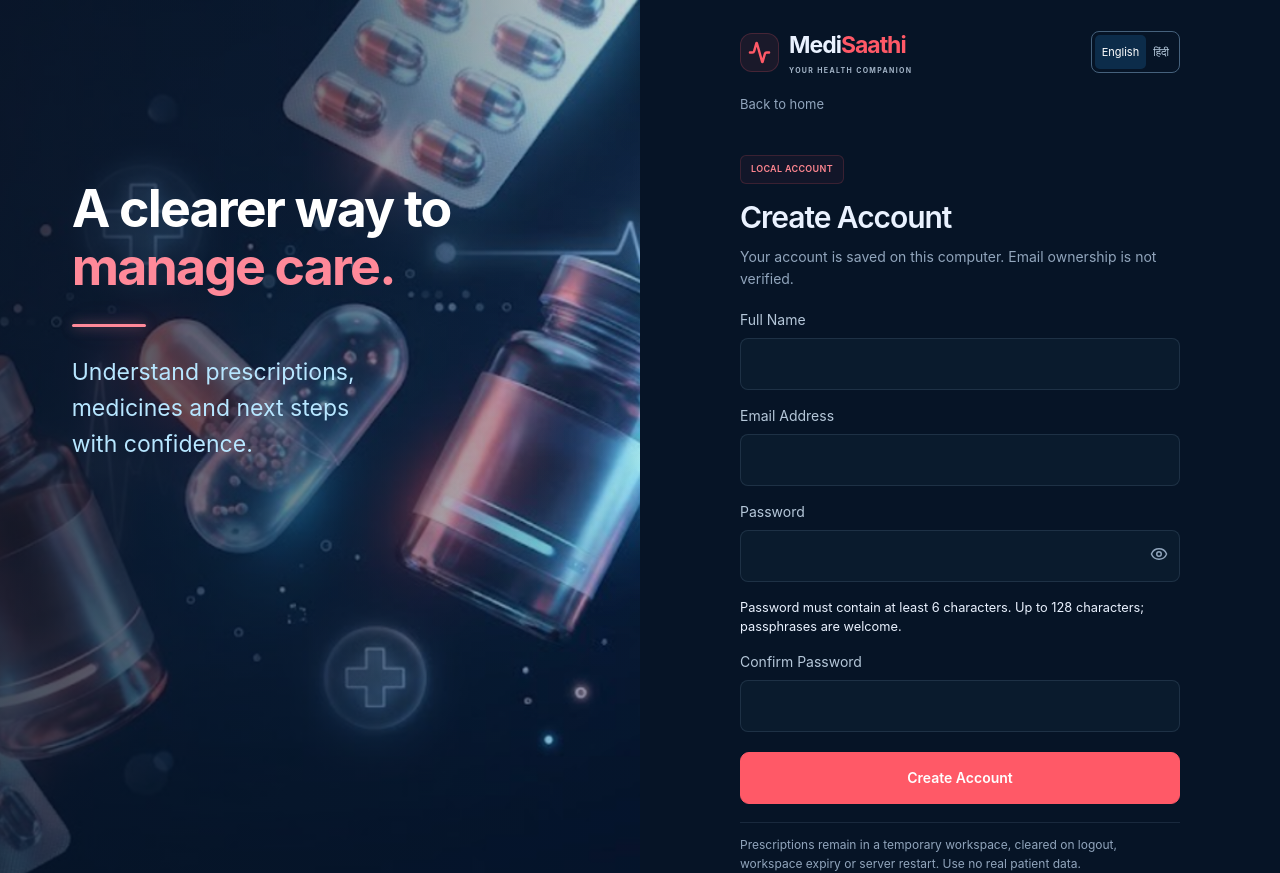
Test case: rejects mismatched passwords and clears them without a request
The width and height of the screenshot is (1280, 873).
Type "Asha Sharma" into the field labelled "Full Name" at (960, 364), box left=740, top=338, right=1180, bottom=390
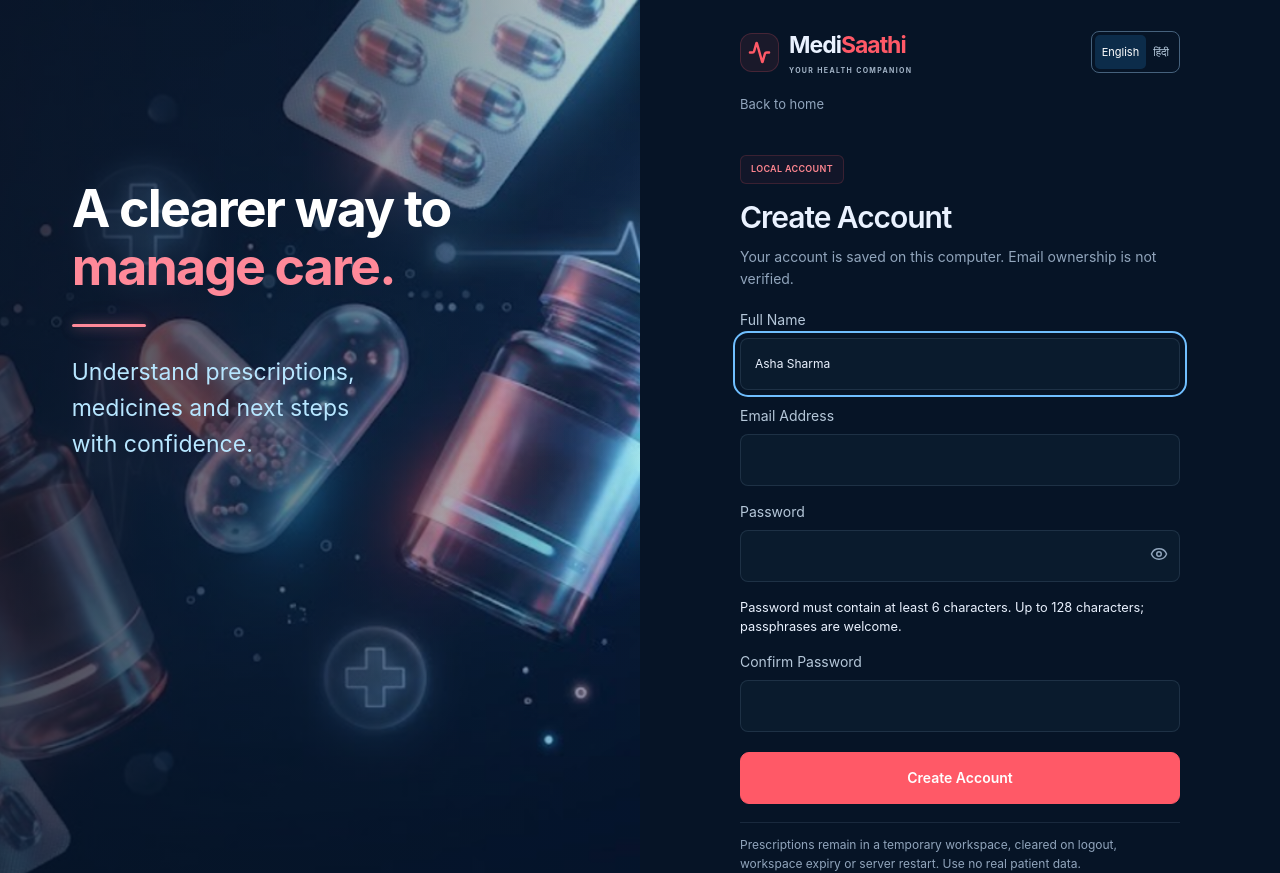
Type "asha@example.test" into the field labelled "Email Address" at (960, 460), box left=740, top=434, right=1180, bottom=486
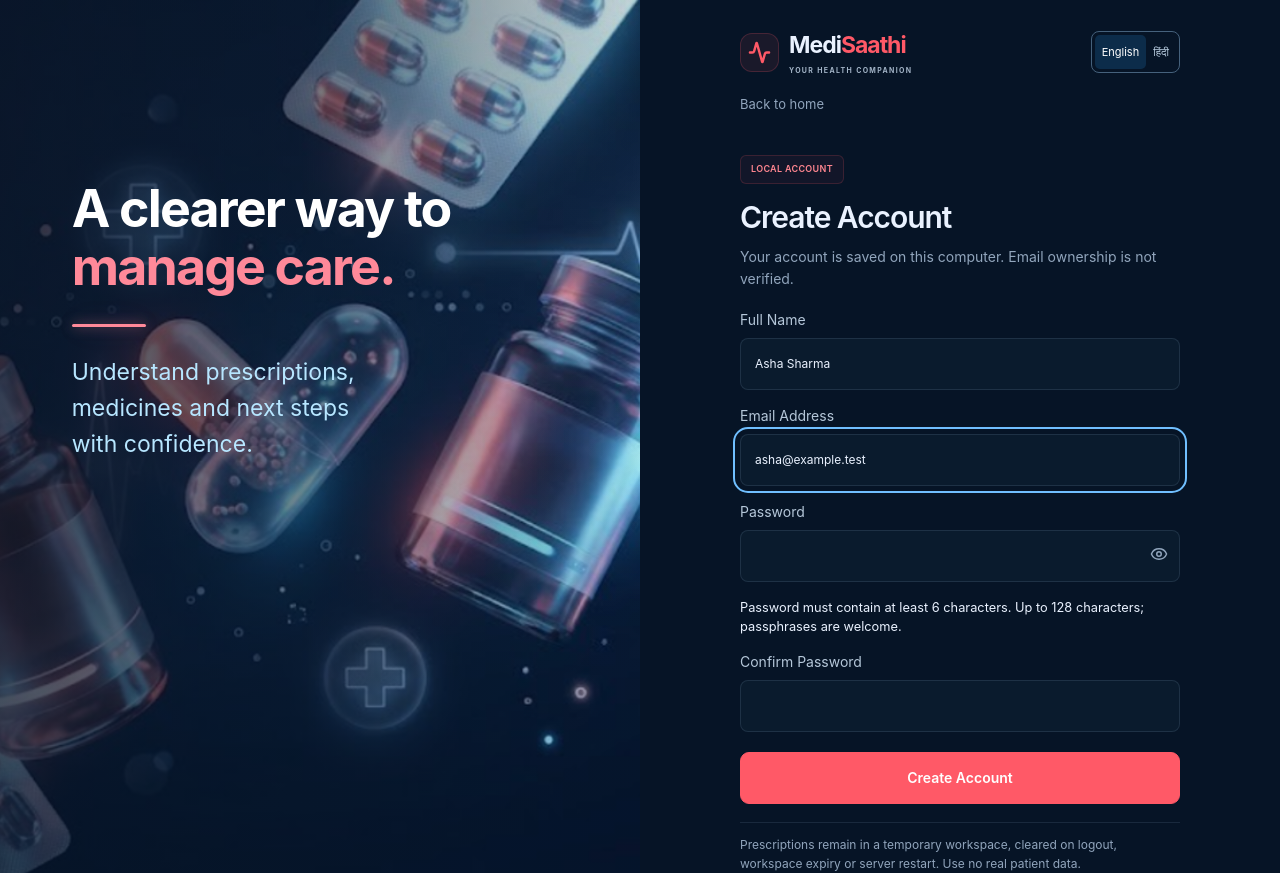
Type "fictional-password" into the password field labelled "Password" at (960, 556), box left=740, top=530, right=1180, bottom=582
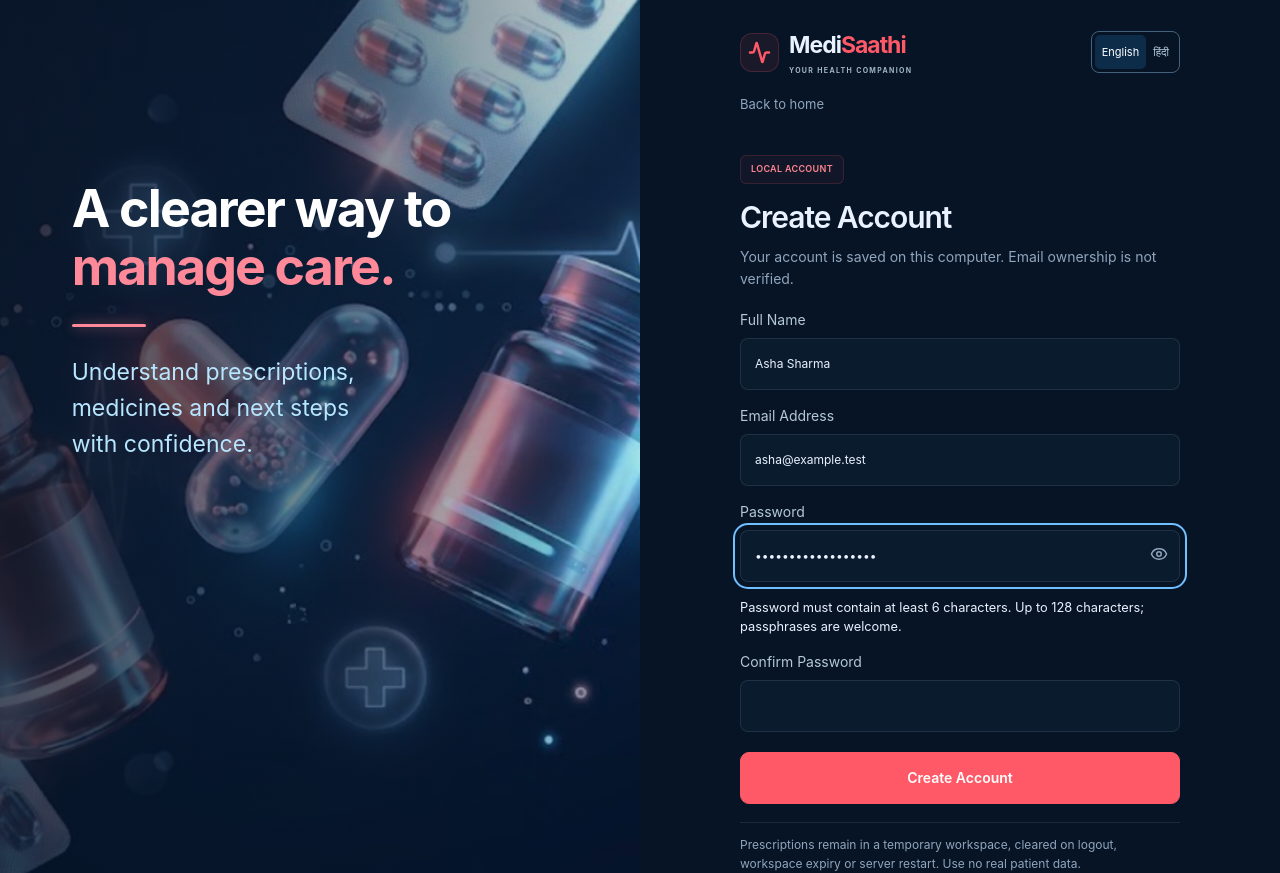
Type "different-password" into the password field labelled "Confirm Password" at (960, 706), box left=740, top=680, right=1180, bottom=732
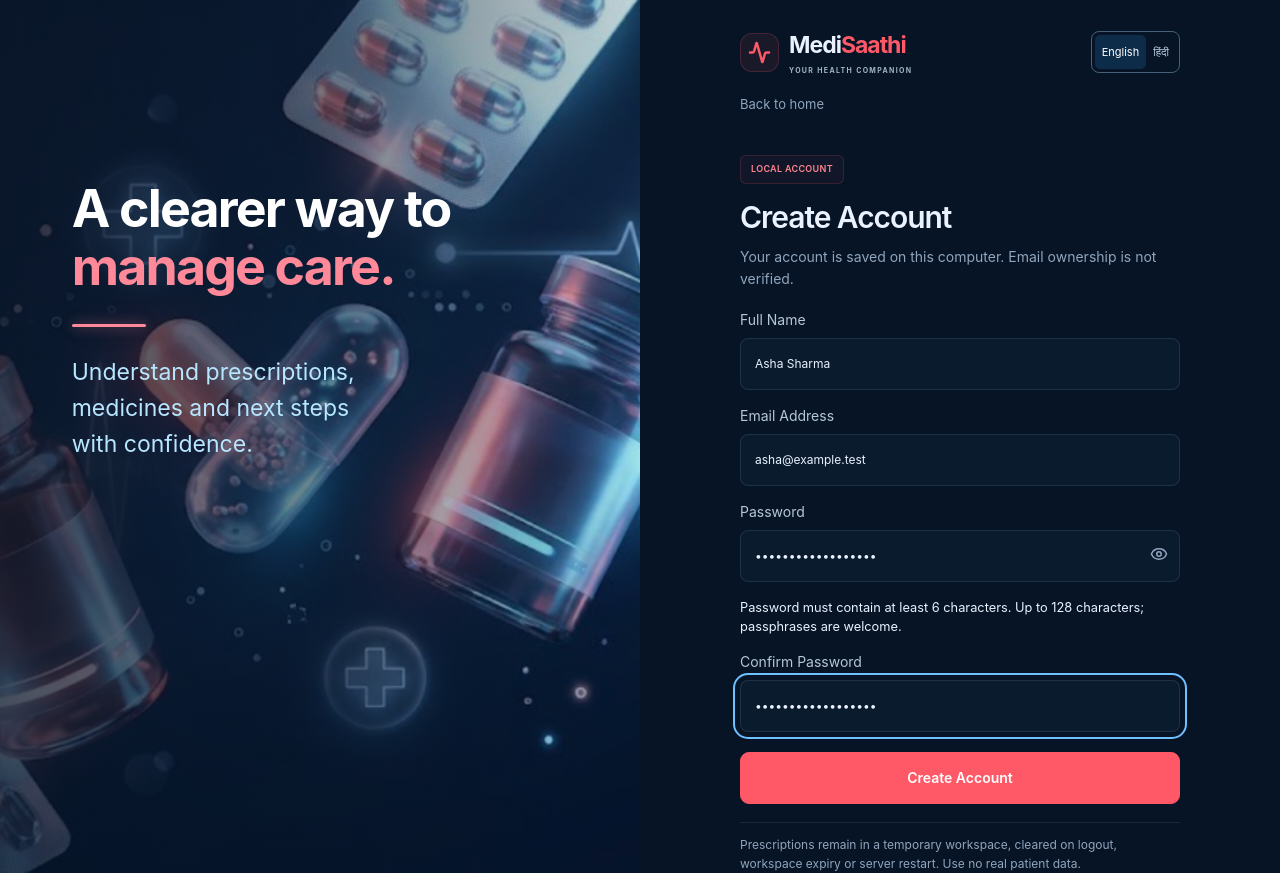
Click the button "Create Account" at (960, 778), box left=740, top=752, right=1180, bottom=804
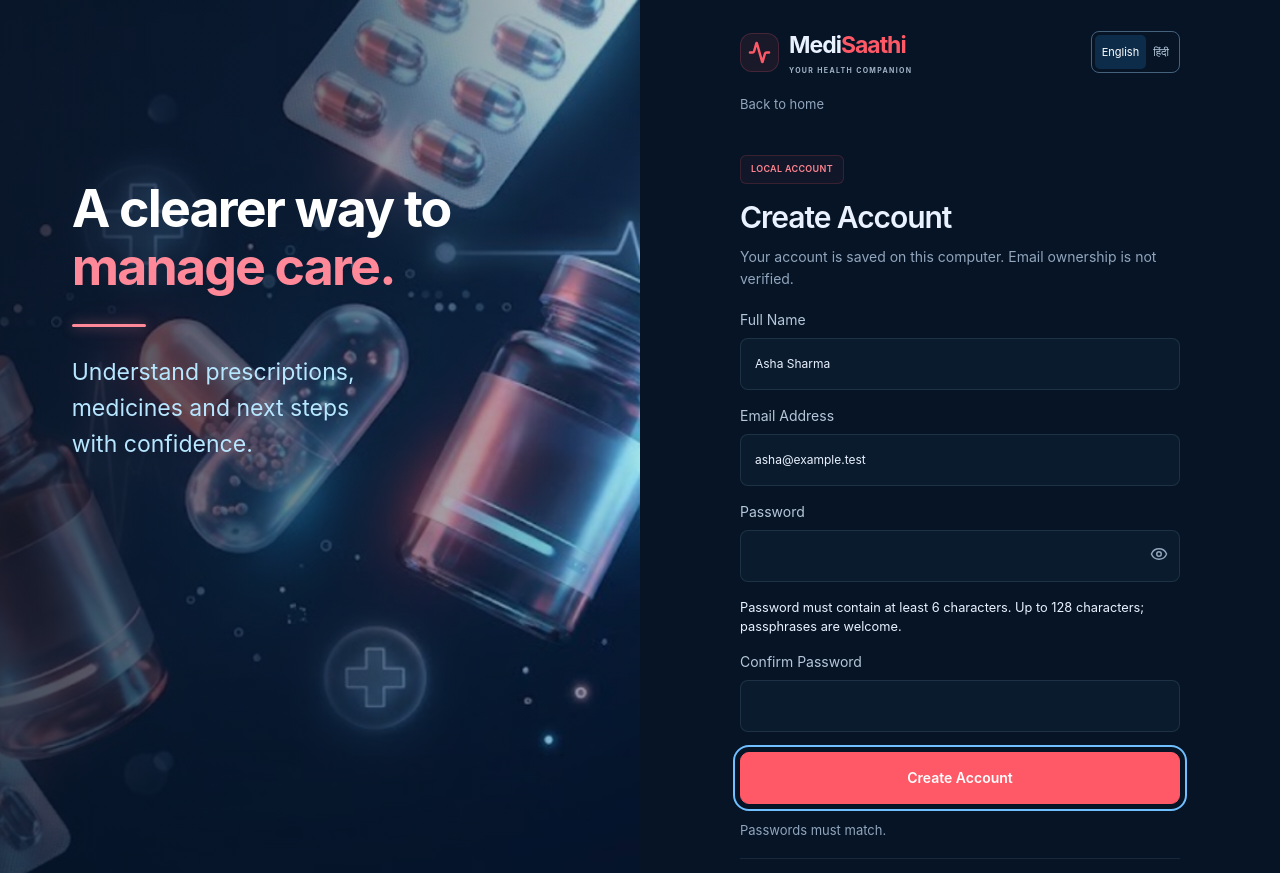
Check: the message shows "must match", box left=740, top=822, right=886, bottom=838
Check: the password field labelled "Password" is empty, box left=740, top=530, right=1180, bottom=582
Check: the password field labelled "Confirm Password" is empty, box left=740, top=680, right=1180, bottom=732
